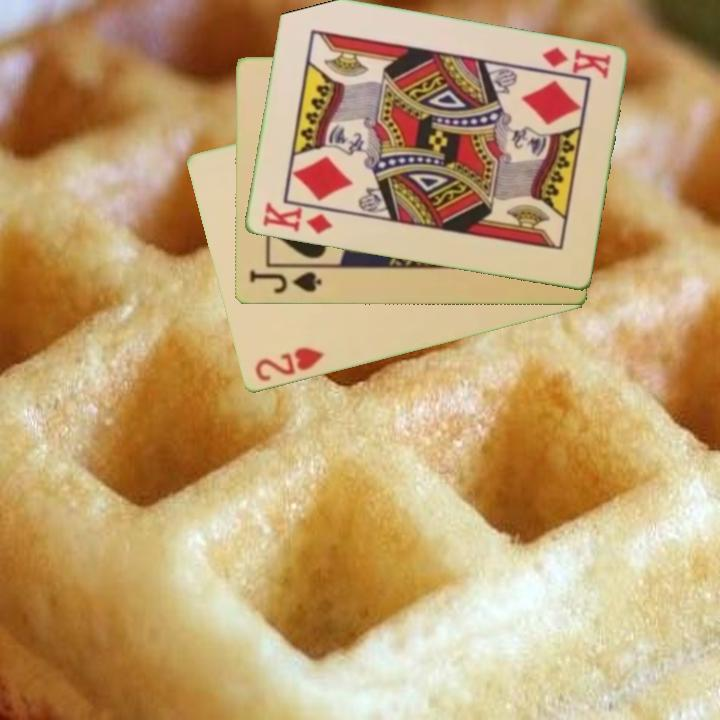2h: (251, 344, 326, 385)
Js: (245, 267, 324, 297)
Kd: (258, 199, 336, 237), (538, 43, 613, 82)
